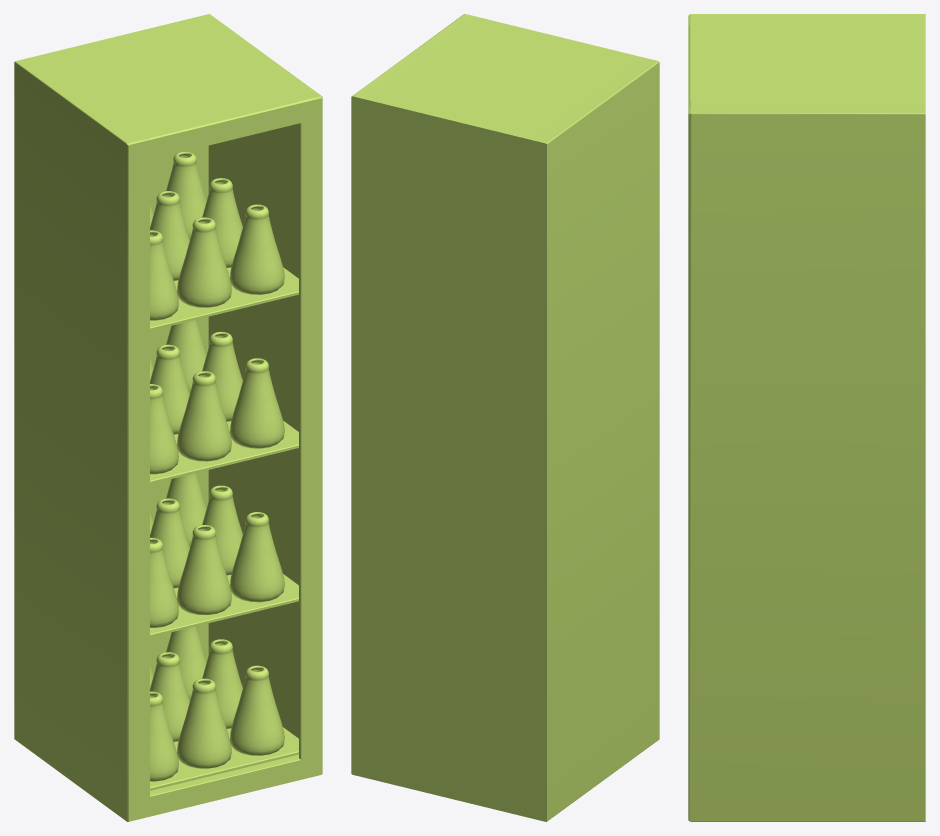
The model's file is shelf_potion2.fbx.
3 views of the same model, side by side, from view 1: azimuth 30°, elevation 25°; view 2: azimuth 150°, elevation 25°; view 3: azimuth 270°, elevation 25° (orthographic). The views are drawn at different scales.
Visible parts, largest first — view 1: shelf_potion2; view 2: shelf_potion2; view 3: shelf_potion2.
Boxes of the visible parts, box(x1,y1,x2,y2) form: shelf_potion2: box(14, 14, 322, 821); shelf_potion2: box(351, 14, 659, 821); shelf_potion2: box(688, 14, 925, 821).
Size of the model in its own units: 99.62 by 330 by 99.95.
